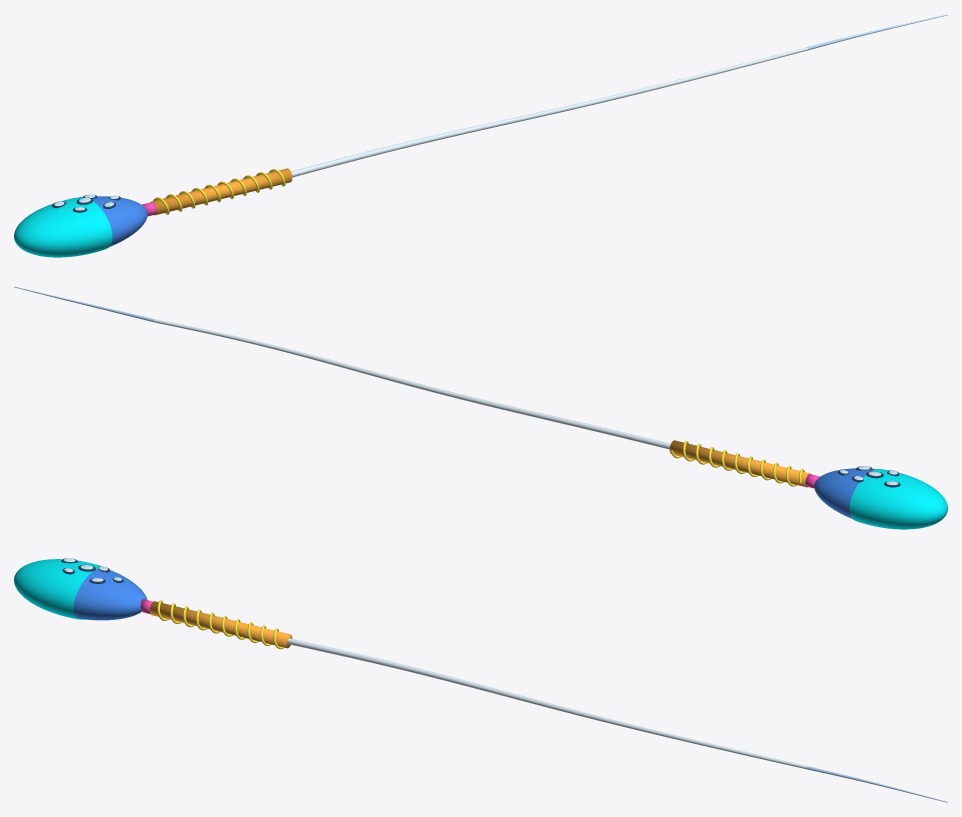
Rendered from 08_Cabeza_vacuolada.glb.
3 views of the same model, one above another, from view 1: azimuth 30°, elevation 25°; view 2: azimuth 150°, elevation 25°; view 3: azimuth 330°, elevation 25° (orthographic).
Visible parts, largest first — view 1: Cubierta_acrosomal_cabeza_vacuolada, Cola_pieza_principal.001, Pieza_intermedia.001, Cabeza_nucleo_vacuolada, Helice_mitocondrial_didactica.001; view 2: Cubierta_acrosomal_cabeza_vacuolada, Cola_pieza_principal.001, Pieza_intermedia.001, Cabeza_nucleo_vacuolada, Helice_mitocondrial_didactica.001; view 3: Cubierta_acrosomal_cabeza_vacuolada, Cola_pieza_principal.001, Cabeza_nucleo_vacuolada, Pieza_intermedia.001, Helice_mitocondrial_didactica.001.
Boxes of the visible parts, <box> form: Cubierta_acrosomal_cabeza_vacuolada: <box>14,197,112,257</box>; Cola_pieza_principal.001: <box>291,47,807,177</box>; Pieza_intermedia.001: <box>151,168,292,215</box>; Cabeza_nucleo_vacuolada: <box>92,196,147,246</box>; Helice_mitocondrial_didactica.001: <box>153,169,285,214</box>; Cubierta_acrosomal_cabeza_vacuolada: <box>849,469,947,529</box>; Cola_pieza_principal.001: <box>154,319,670,449</box>; Pieza_intermedia.001: <box>669,440,810,487</box>; Cabeza_nucleo_vacuolada: <box>814,468,876,518</box>; Helice_mitocondrial_didactica.001: <box>670,440,804,486</box>; Cubierta_acrosomal_cabeza_vacuolada: <box>14,559,101,619</box>; Cola_pieza_principal.001: <box>287,638,806,768</box>; Cabeza_nucleo_vacuolada: <box>73,569,147,620</box>; Pieza_intermedia.001: <box>149,601,292,648</box>; Helice_mitocondrial_didactica.001: <box>157,600,284,649</box>.
Size of the model in its own units: 62.85 by 3.06 by 4.65.
